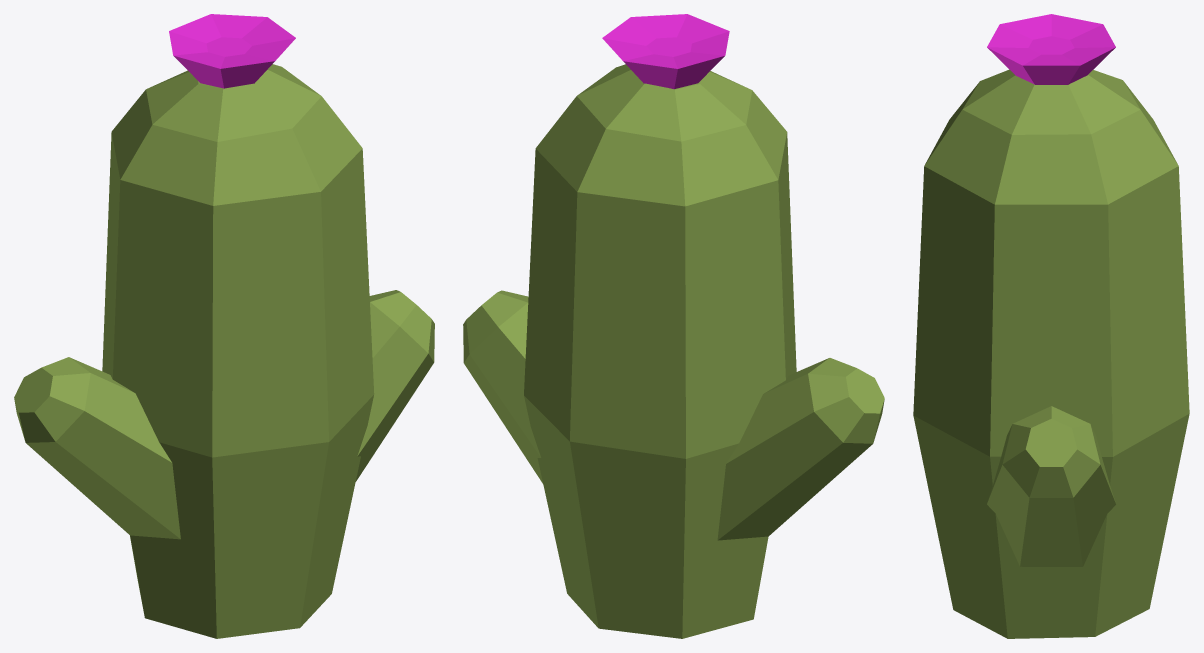
File: cactus_02.fbx
3 renders of one model, left to right at view 1: azimuth 30°, elevation 25°; view 2: azimuth 150°, elevation 25°; view 3: azimuth 270°, elevation 25°, orthographic.
Visible parts, largest first — view 1: cactus_02; view 2: cactus_02; view 3: cactus_02.
Part boxes in pixels (bbox=[...]): cactus_02: bbox=[14, 14, 434, 638]; cactus_02: bbox=[463, 14, 884, 638]; cactus_02: bbox=[913, 14, 1189, 638].
Size of the model in its own units: 160 by 208 by 93.2.
